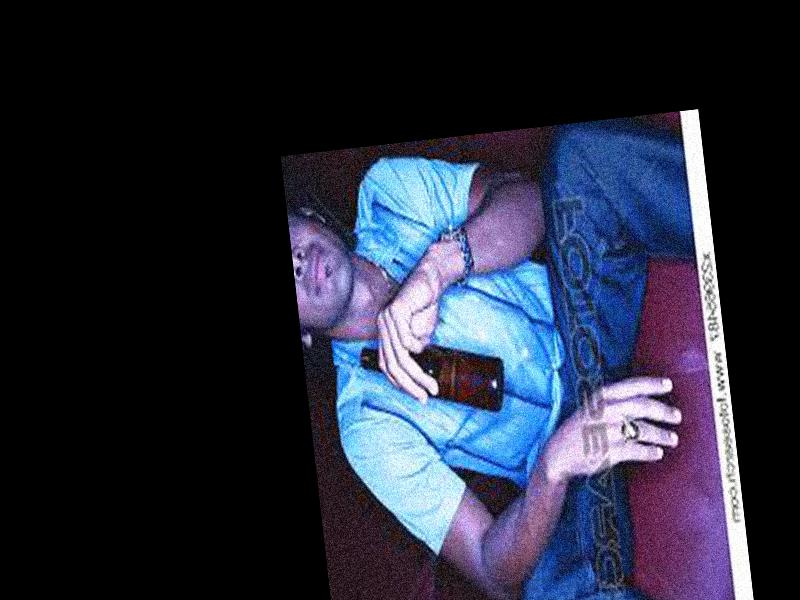Beer: (358, 331, 507, 428)
